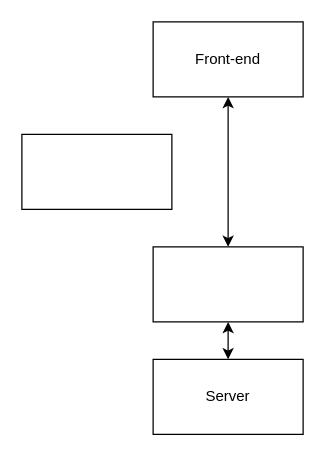
The diagram is 325 pixels wide and 456 high, and some of its shapes have lost their labels. Each missing label, with the centre of its shape:
"Back-end" belongs at point (96, 171).
"Web API" belongs at point (227, 284).
